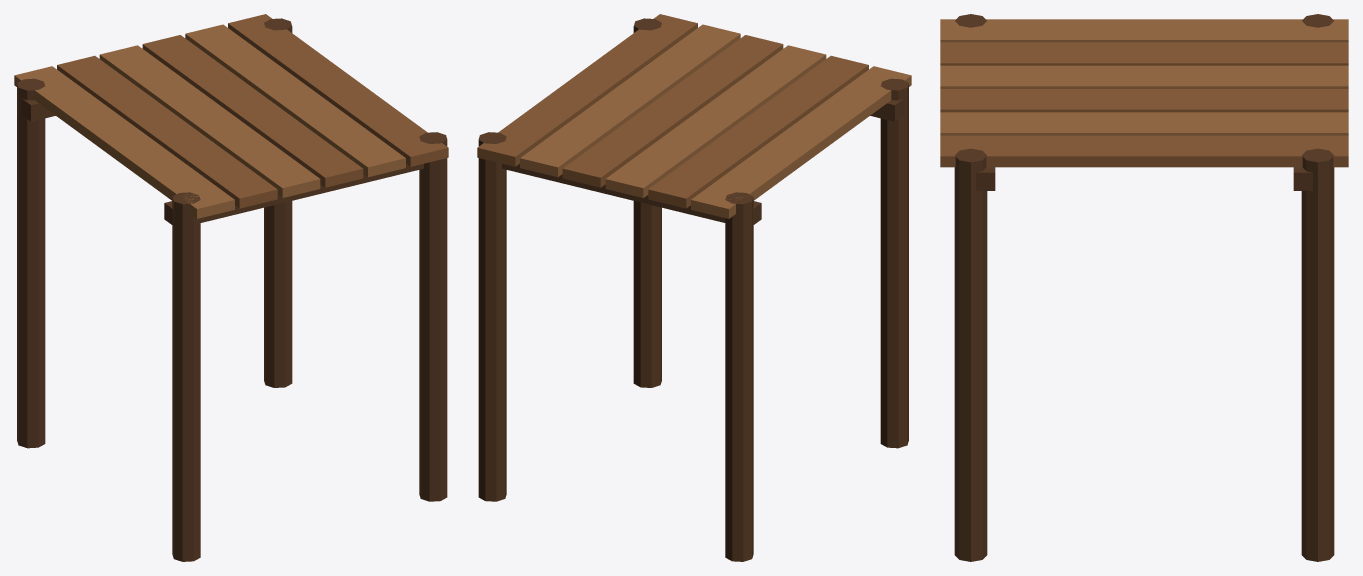
File: Dock_Section.fbx
3 views of the same model, side by side, from view 1: azimuth 30°, elevation 25°; view 2: azimuth 150°, elevation 25°; view 3: azimuth 270°, elevation 25° (orthographic). The views are drawn at different scales.
Parts seen in each view (by area): view 1: Dock_Section.001; view 2: Dock_Section.001; view 3: Dock_Section.001.
Part boxes in pixels (<box>): Dock_Section.001: <box>14,14,448,561</box>; Dock_Section.001: <box>477,14,911,561</box>; Dock_Section.001: <box>940,14,1348,561</box>.
Size of the model in its own units: 1.72 by 2.16 by 2.
